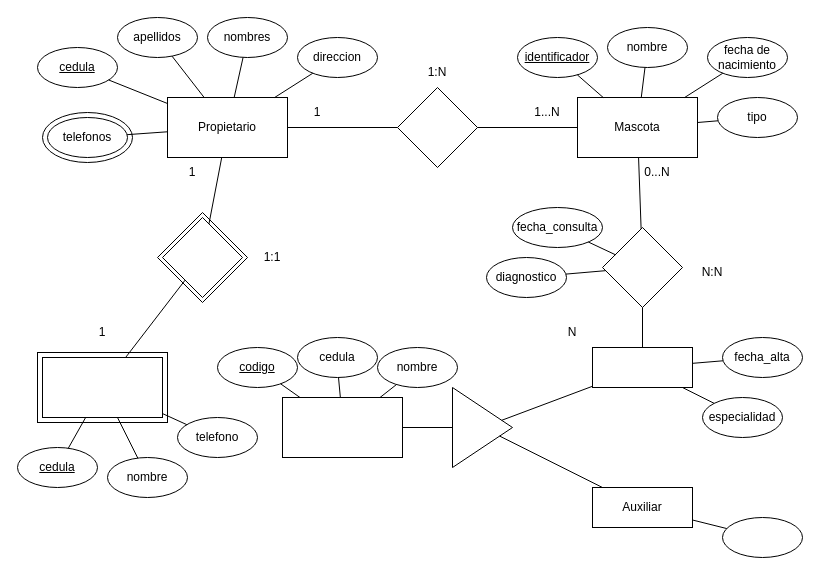
The diagram is 820 pixels wide and 575 high, and some of its shapes have lost their labels. The shapes that lost their labels are listed below. From the top down, each one's centre as x and y in pixels, then its label:
At pixel 437 127: "Lleva".
At pixel 202 257: "Tiene".
At pixel 642 267: "Pasa consulta".
At pixel 102 387: "Famiiar de contacto".
At pixel 642 367: "Veterinario".
At pixel 342 427: "Personal de la clinica".
At pixel 762 537: "base de cotizacion".
